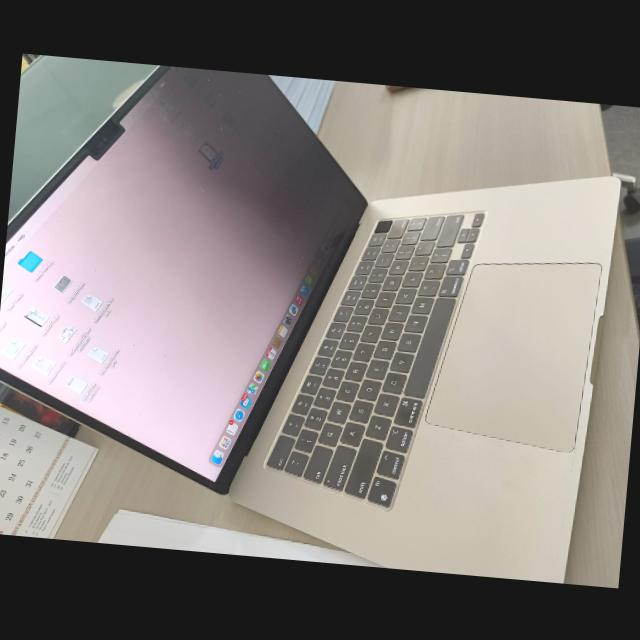laptop: (0, 53, 635, 572)
